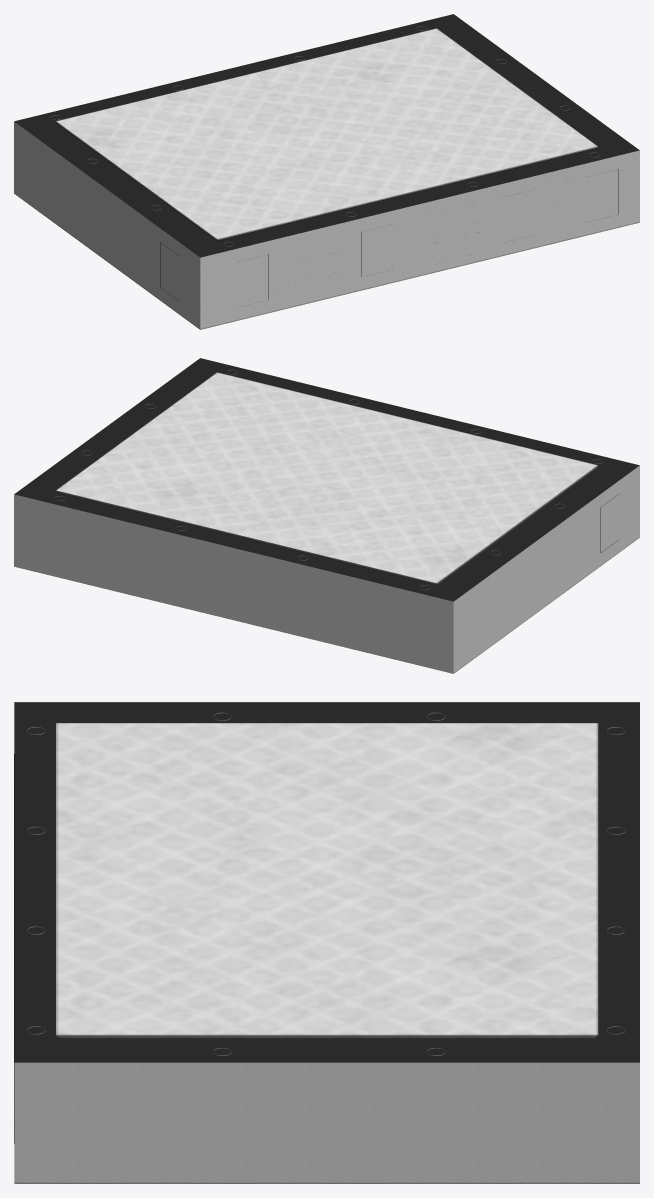
File: Room.fbx
3 renders of one model, top to bottom at view 1: azimuth 30°, elevation 25°; view 2: azimuth 150°, elevation 25°; view 3: azimuth 270°, elevation 25°, orthographic. The views are drawn at different scales.
Parts seen in each view (by area): view 1: Art_Room; view 2: Art_Room; view 3: Art_Room.
Part boxes in pixels (x1,y1,x2,y2): Art_Room: (14,14,639,329); Art_Room: (14,358,639,673); Art_Room: (14,702,639,1183).
Bounding box in the file's own units: 2764 × 446 × 2028.
3 materials, 1 textured.
